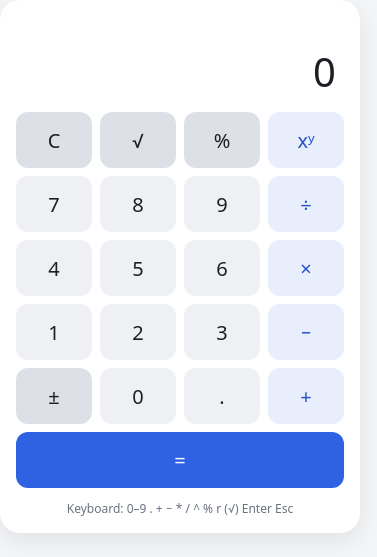
Test case: Calculator › applies square root right away
Click the button "9": (222, 204) [184,176,260,232]
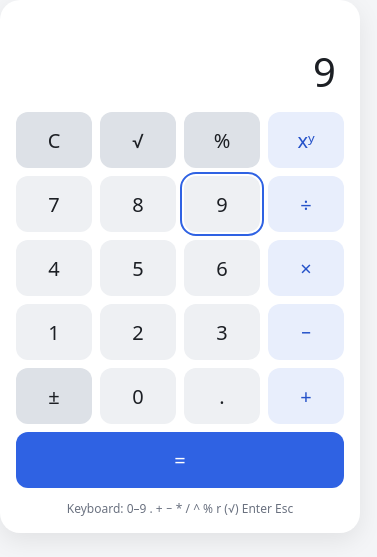
Click the button named "square root": (138, 140) [100,112,176,168]
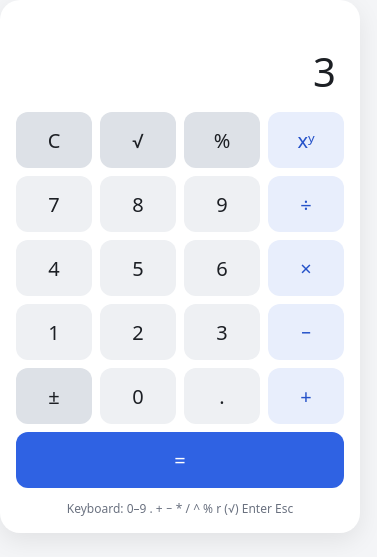
Now the text "3" is shown, box [313,44,336,99]
